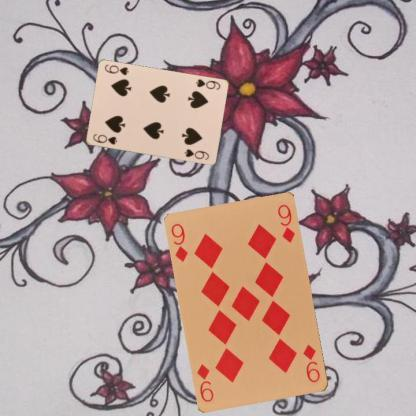6s: (192, 76, 222, 92), (90, 131, 119, 146)
9d: (168, 221, 190, 264), (301, 342, 322, 384)
